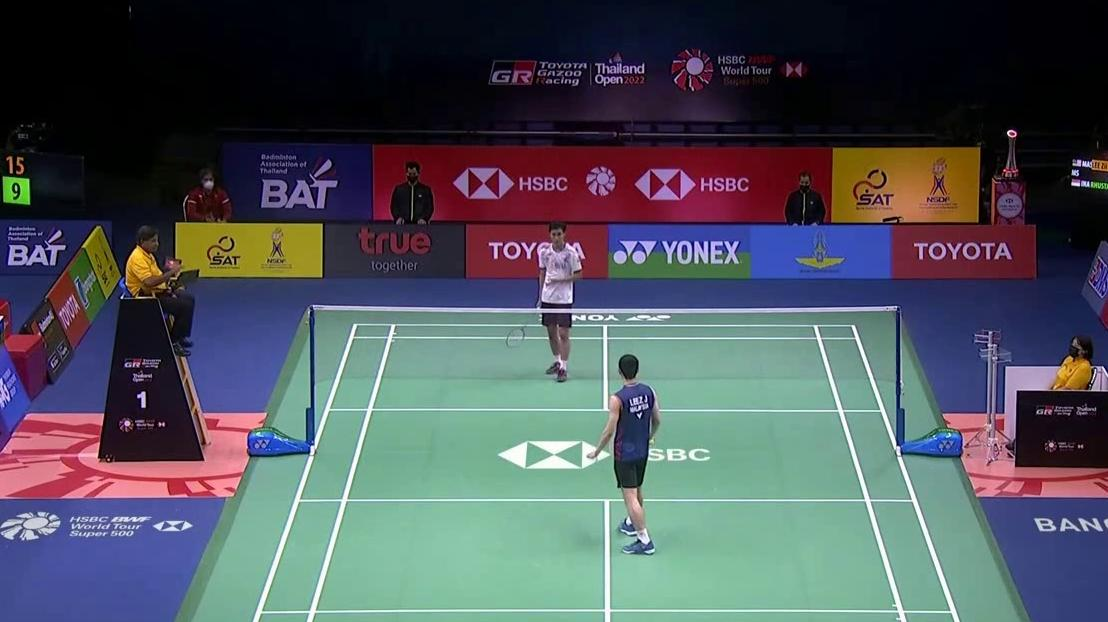racket: (505, 301, 540, 348), (606, 437, 654, 457)
shuttle: (589, 453, 598, 465)
